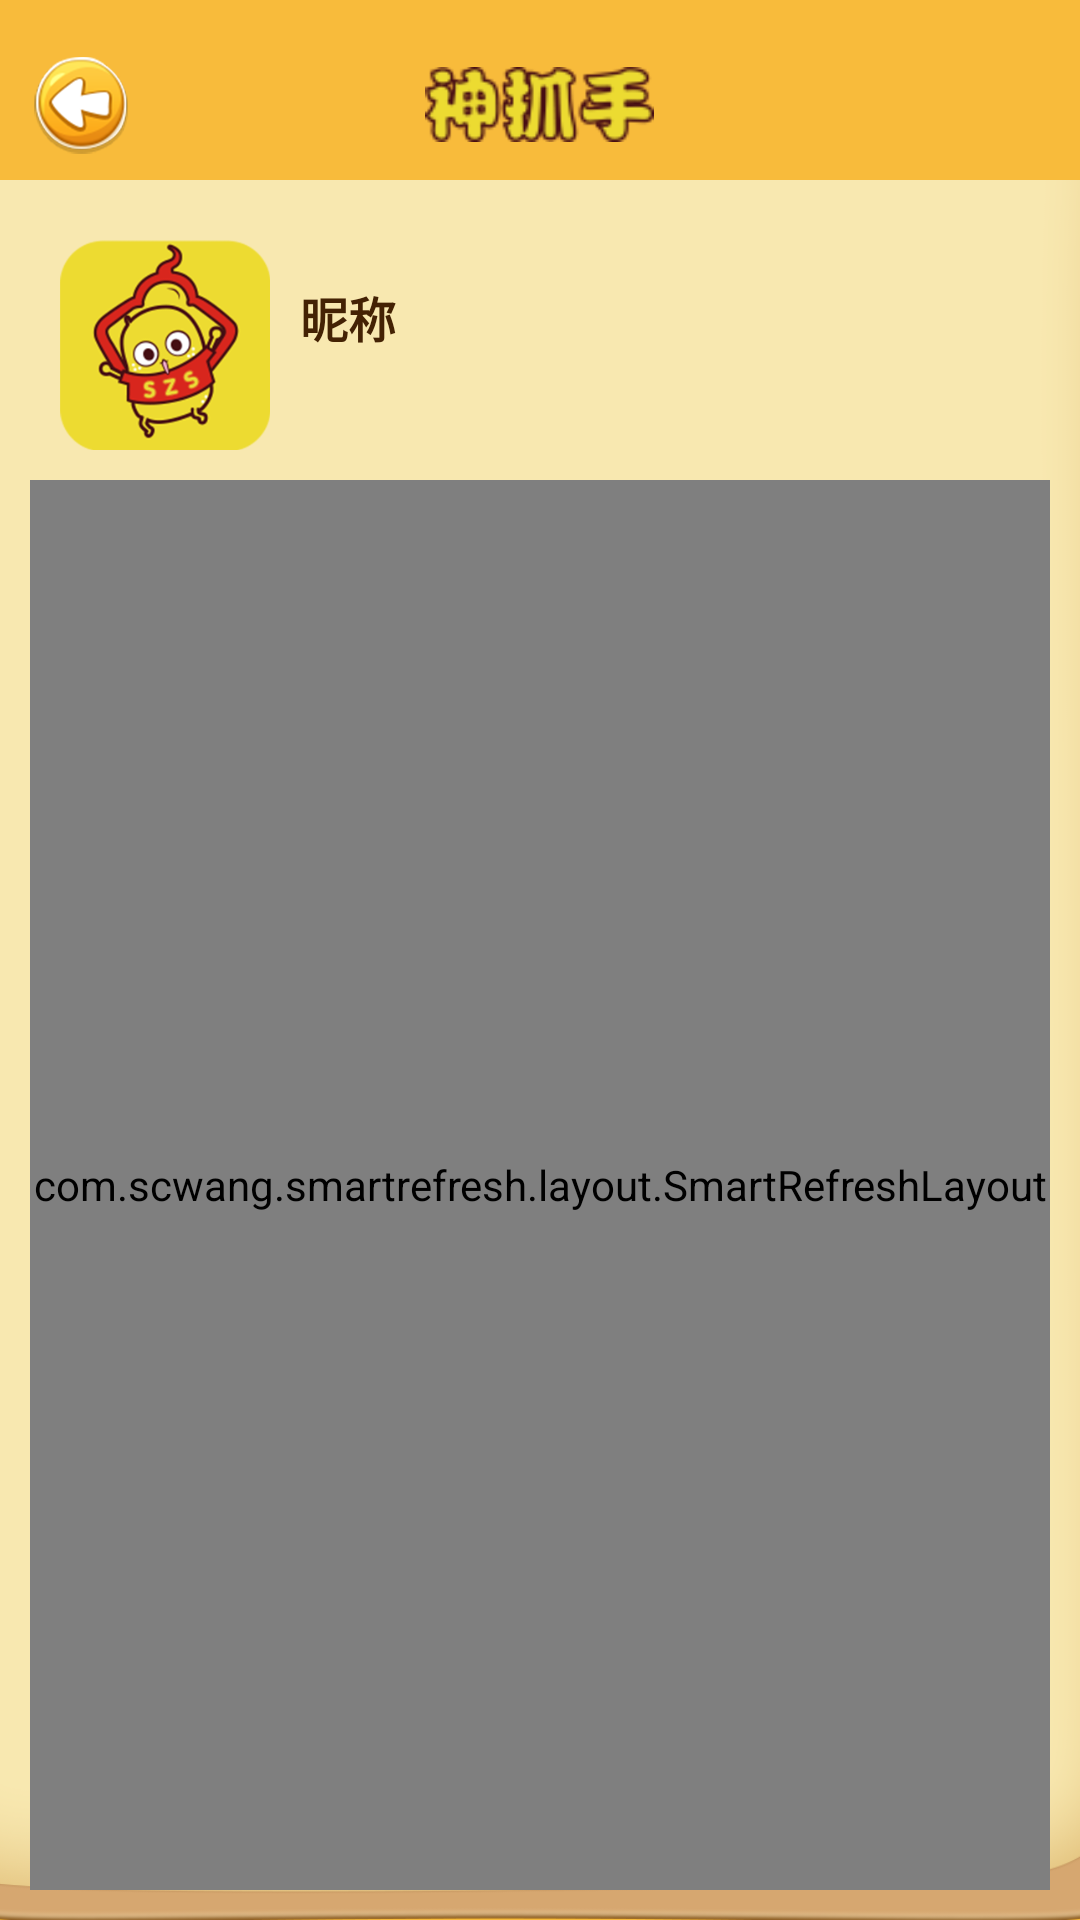

Screen size 1080w x 1920h. Icon name, then its center in pixels as point (x, y):
player back: point (81, 105)
